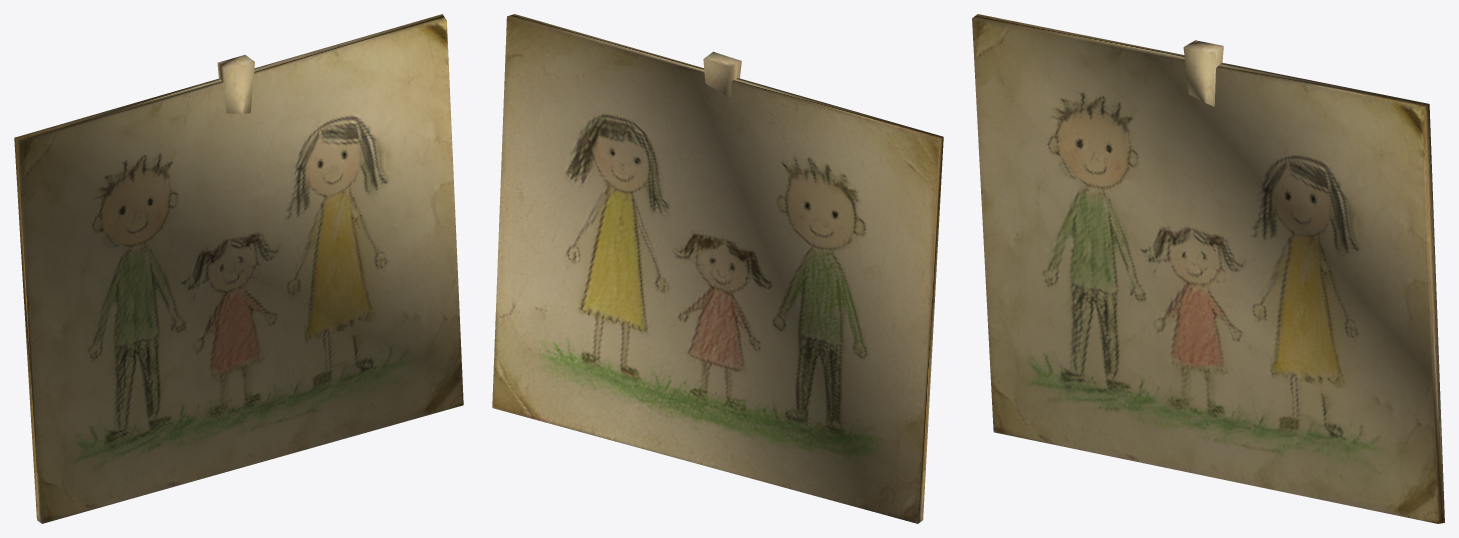
Rendered from picture8.fbx.
3 renders of one model, left to right at view 1: azimuth 30°, elevation 25°; view 2: azimuth 150°, elevation 25°; view 3: azimuth 330°, elevation 25°, orthographic. The views are drawn at different scales.
Parts seen in each view (by area): view 1: picture8; view 2: picture8; view 3: picture8.
Part boxes in pixels (x1=…): picture8: x1=14, y1=14, x2=463, y2=523; picture8: x1=492, y1=14, x2=943, y2=523; picture8: x1=972, y1=14, x2=1444, y2=523.
Bounding box in the file's own units: 222 × 197 × 8.8.
Materials: 1 (1 with a texture image).
